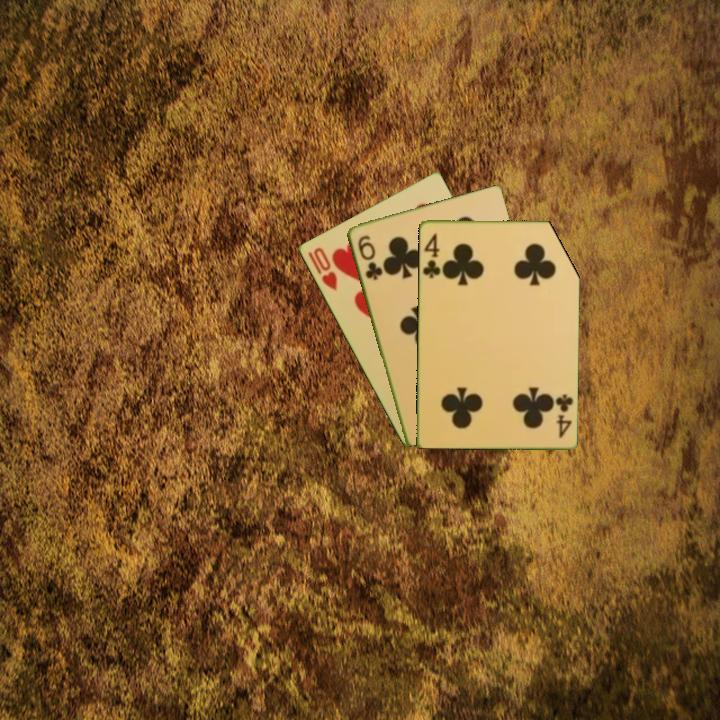10h: (304, 243, 340, 294)
4c: (551, 390, 576, 440), (419, 230, 443, 281)
6c: (354, 231, 384, 283)
